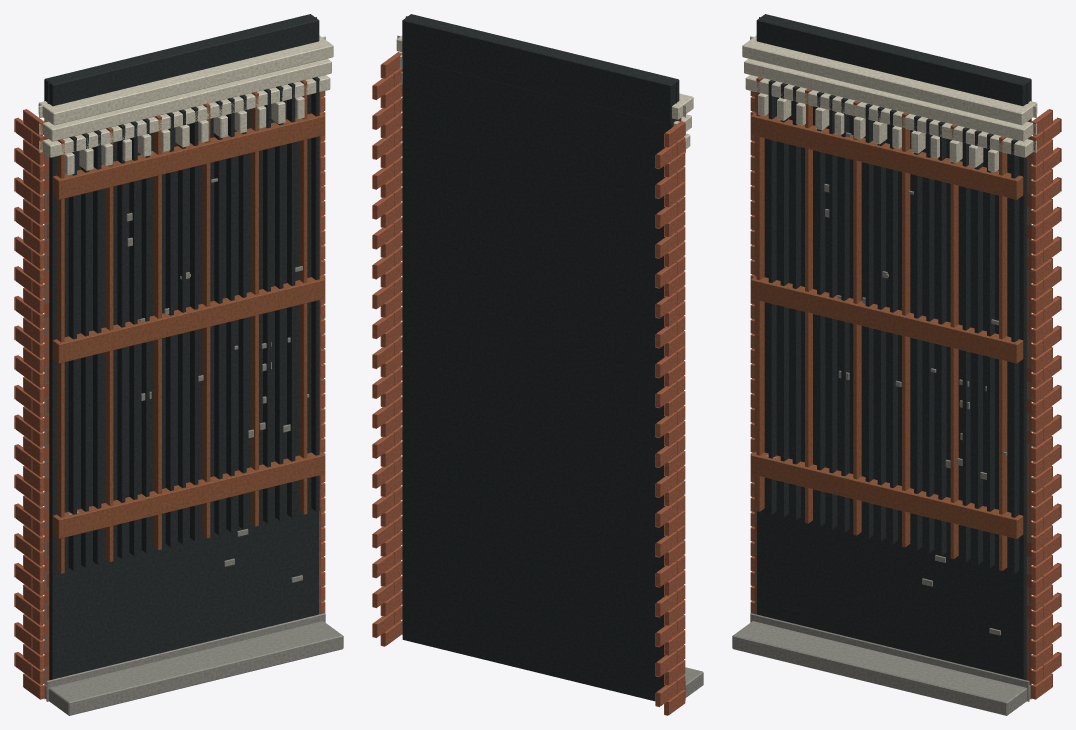
Rendered from WHSE11_lod0.glb.
3 renders of one model, left to right at view 1: azimuth 30°, elevation 25°; view 2: azimuth 150°, elevation 25°; view 3: azimuth 330°, elevation 25°, orthographic.
Visible parts, largest first — view 1: WHSE11_FRONT_LOD0; view 2: WHSE11_FRONT_LOD0; view 3: WHSE11_FRONT_LOD0.
Boxes of the visible parts, x1,y1,x2,y2 form: WHSE11_FRONT_LOD0: (14,14,343,715); WHSE11_FRONT_LOD0: (372,14,703,715); WHSE11_FRONT_LOD0: (732,14,1061,715).
Bounding box in the file's own units: 3.44 × 7.05 × 1.02.
Materials: 9 (9 with a texture image).
